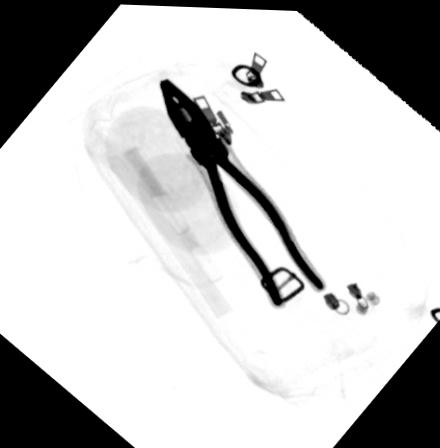Pliers: (157, 74, 328, 306)
